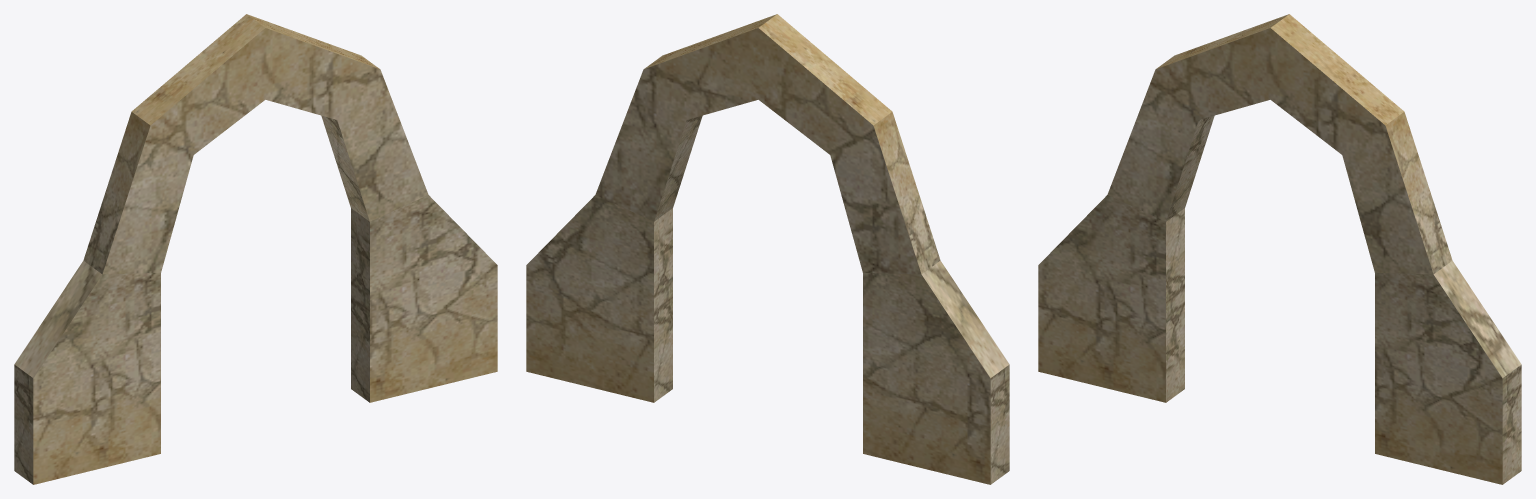
Rendered from Environment - Prop - Stone Wall 01 - PMWallStn6_A.glb.
3 views of the same model, side by side, from view 1: azimuth 30°, elevation 25°; view 2: azimuth 150°, elevation 25°; view 3: azimuth 330°, elevation 25° (orthographic).
Parts seen in each view (by area): view 1: PMWALLSTN6_A; view 2: PMWALLSTN6_A; view 3: PMWALLSTN6_A.
Part boxes in pixels (x1,y1,x2,y2): PMWALLSTN6_A: (14, 14, 497, 484); PMWALLSTN6_A: (526, 14, 1009, 484); PMWALLSTN6_A: (1038, 14, 1521, 484).
Bounding box in the file's own units: 30 × 24.73 × 2.13.
1 material, 1 textured.
